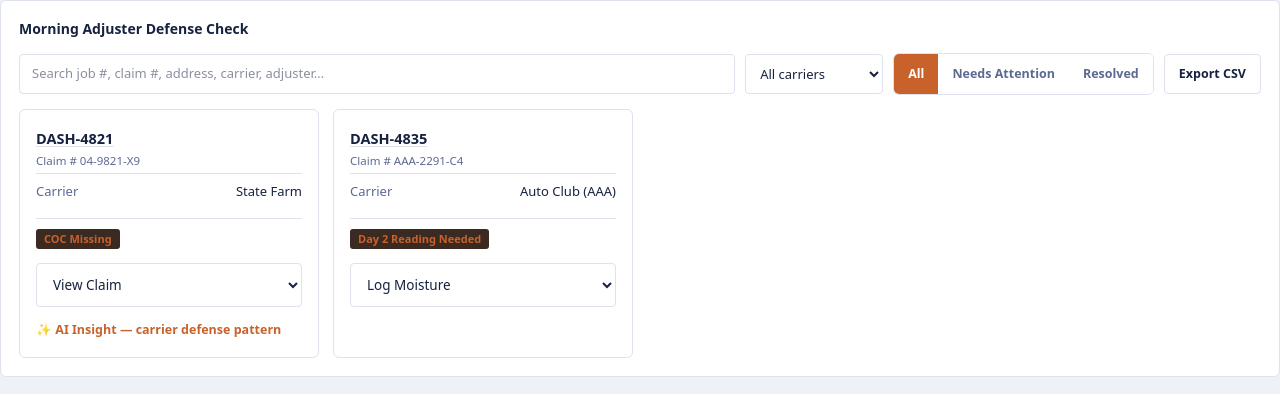
AdjusterDefenseView › filters cases by carrier
Select "State Farm" in the dropdown named "carrier" at (814, 74), box [745,54,883,94]
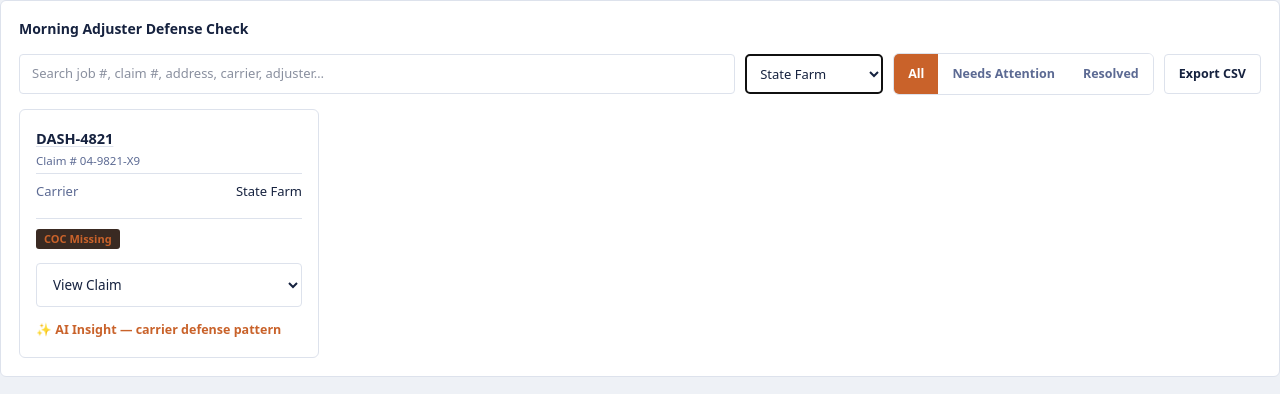
Check: the button "DASH-4821" is shown, box [36,128,113,150]
Check: the button "DASH-4835" is gone
